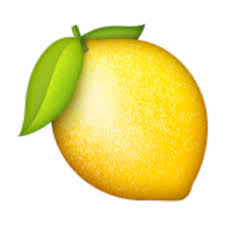lemon: (39, 19, 220, 210)
